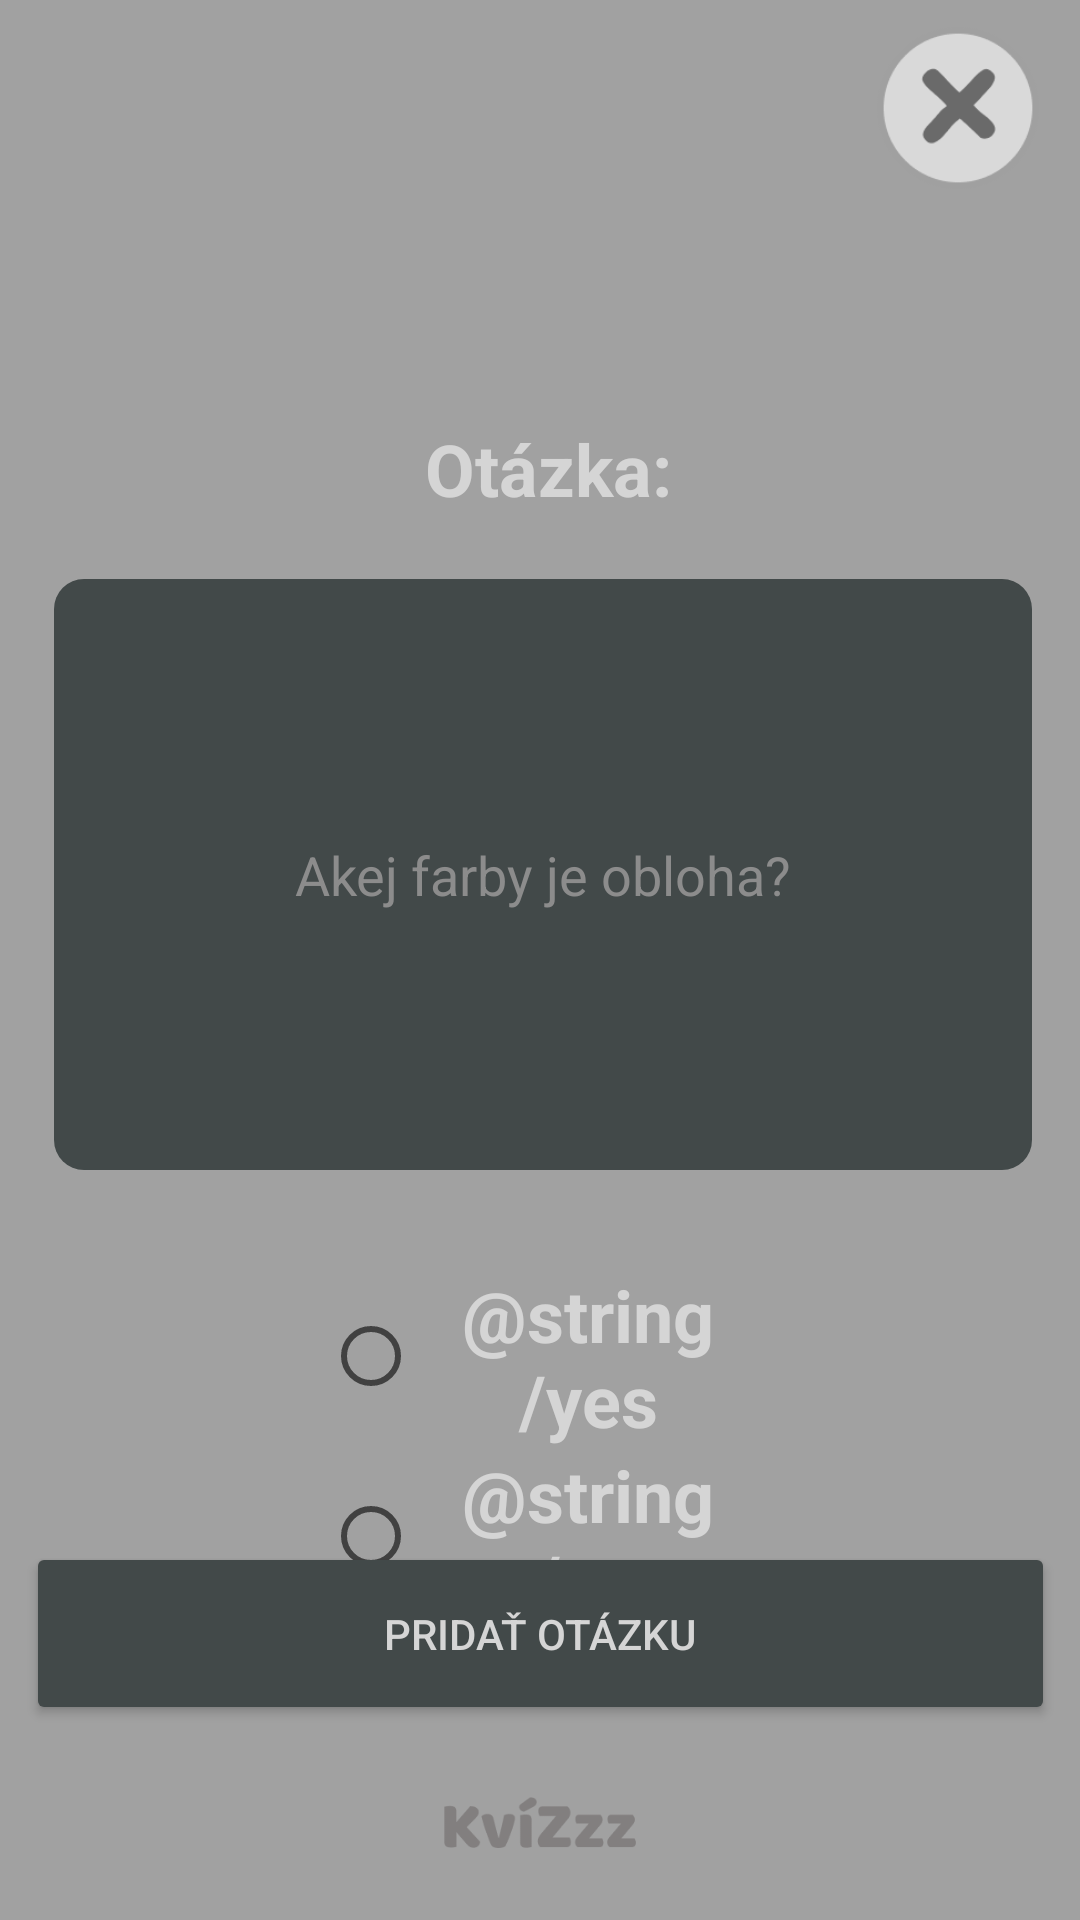

Screen size 1080×1920. Icon name, then its center in pixels as (x=x, y=y):
exit: (x=958, y=108)
